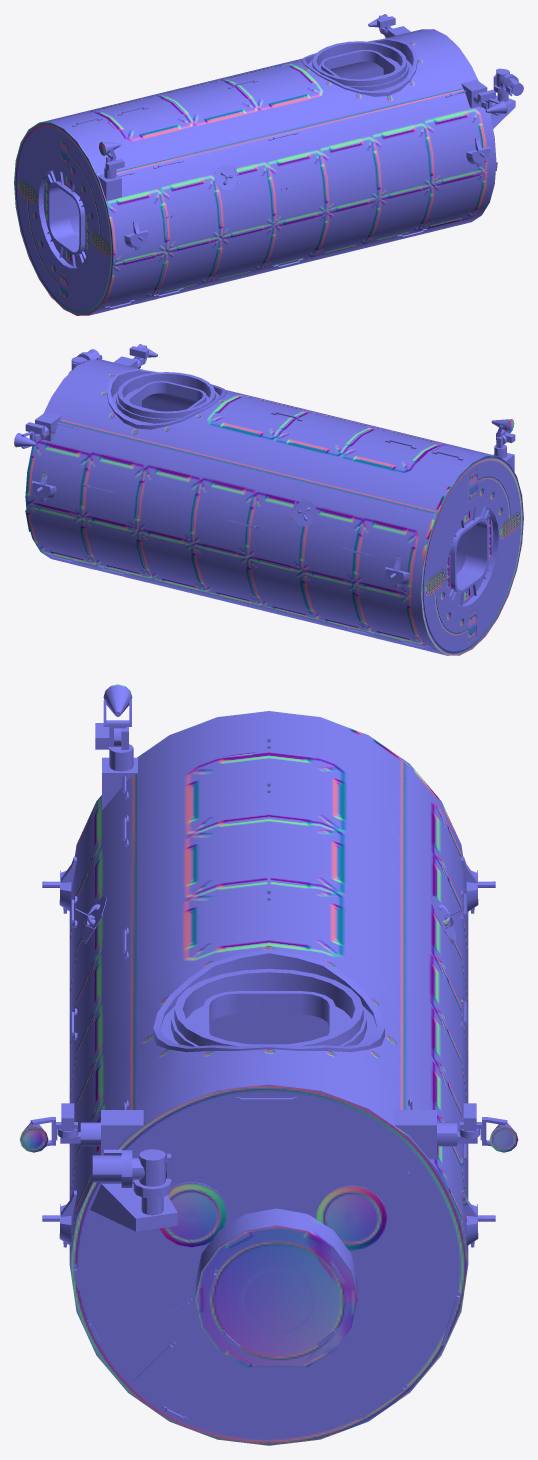
The model's file is IssModule_D.FBX.
3 renders of one model, top to bottom at view 1: azimuth 30°, elevation 25°; view 2: azimuth 150°, elevation 25°; view 3: azimuth 270°, elevation 25°, orthographic. The views are drawn at different scales.
Parts seen in each view (by area): view 1: IssModule_D; view 2: IssModule_D; view 3: IssModule_D.
Part boxes in pixels (left/top/right/bottom): IssModule_D: left=14, top=14, right=523, bottom=315; IssModule_D: left=14, top=344, right=523, bottom=655; IssModule_D: left=19, top=684, right=518, bottom=1445.
Bounding box in the file's own units: 608 × 286 × 314.
